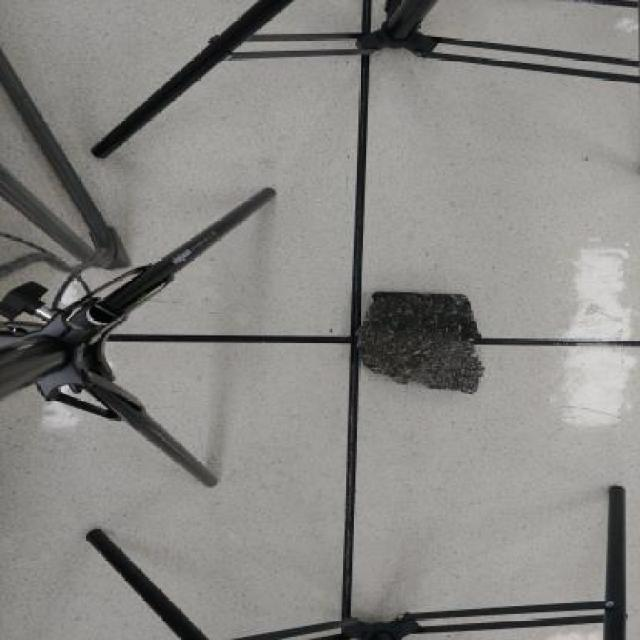Road Debris: (362, 288, 486, 344)
